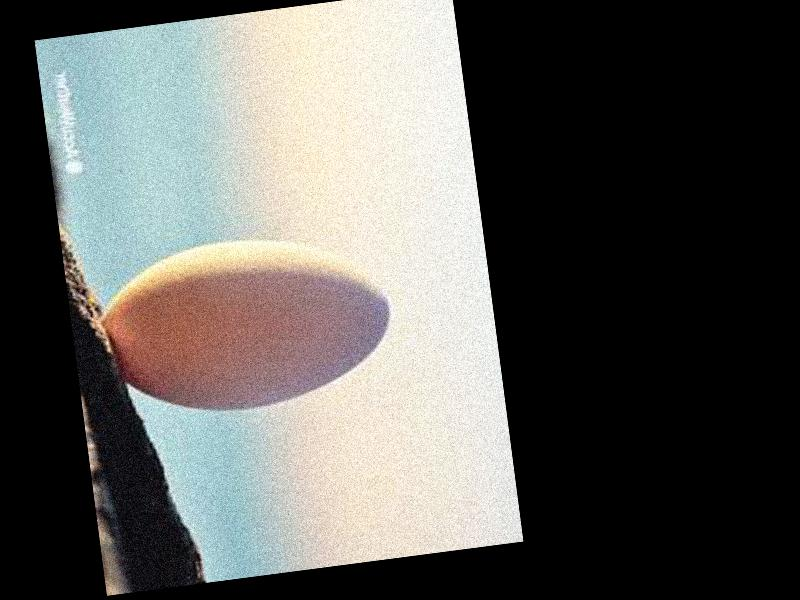Eggs: (97, 220, 402, 426)
